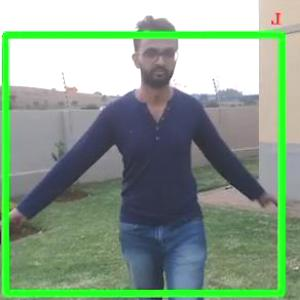land: (2, 29, 287, 299)
